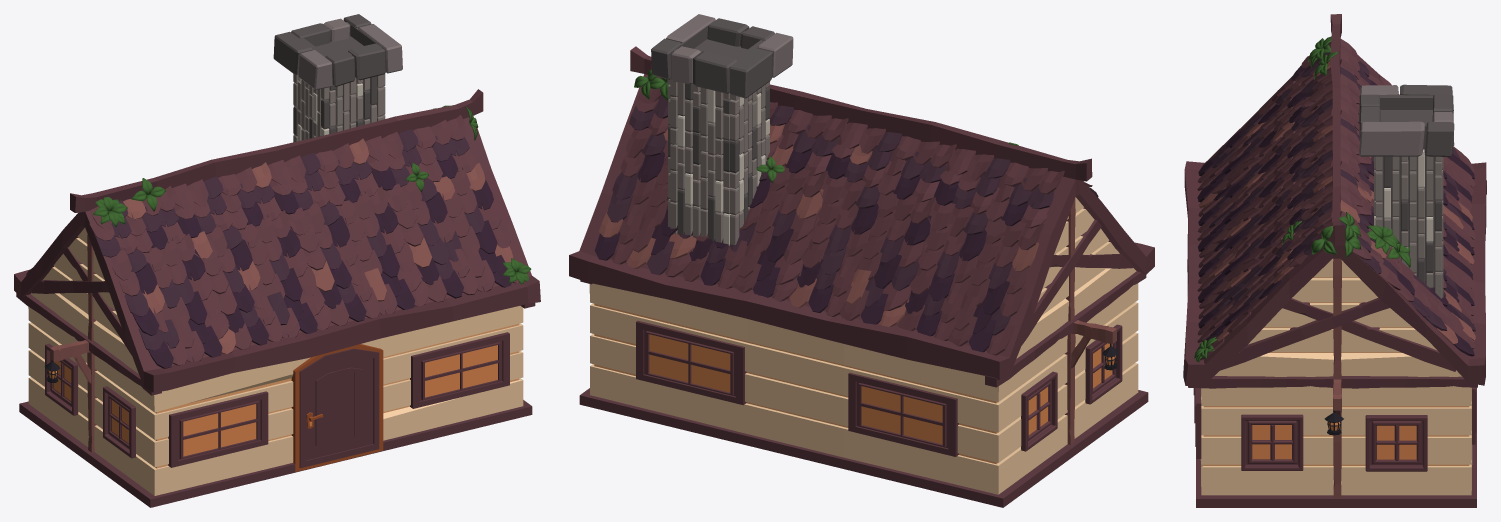
File: casa-madeira6.fbx
The picture shows the model from 3 angles, left to right: view 1: azimuth 30°, elevation 25°; view 2: azimuth 150°, elevation 25°; view 3: azimuth 270°, elevation 25°; orthographic projection. The views are drawn at different scales.
Visible parts, largest first — view 1: Plane.042, Plane.003; view 2: Plane.042; view 3: Plane.042.
Boxes of the visible parts, x1,y1,x2,y2 form: Plane.042: (14, 14, 540, 507); Plane.003: (299, 348, 379, 468); Plane.042: (569, 14, 1154, 507); Plane.042: (1183, 14, 1486, 507).
Size of the model in its own units: 736 by 498 by 391.
